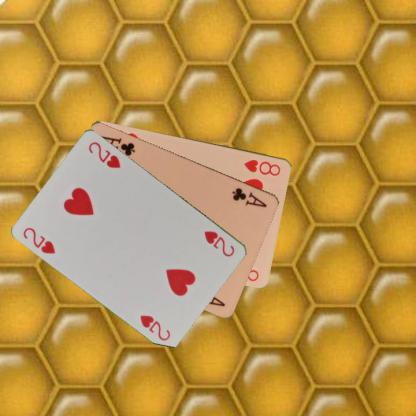2h: (20, 224, 57, 256), (202, 228, 236, 258)
8h: (241, 156, 282, 178)
Ac: (229, 185, 269, 208)
